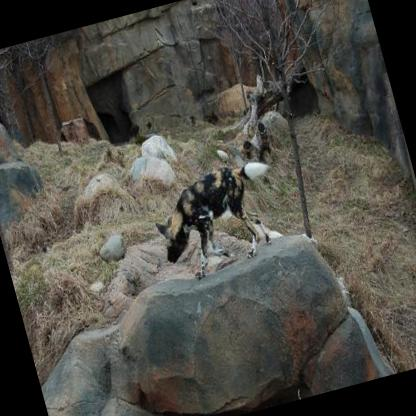African_hunting_dog: (139, 148, 295, 286)
